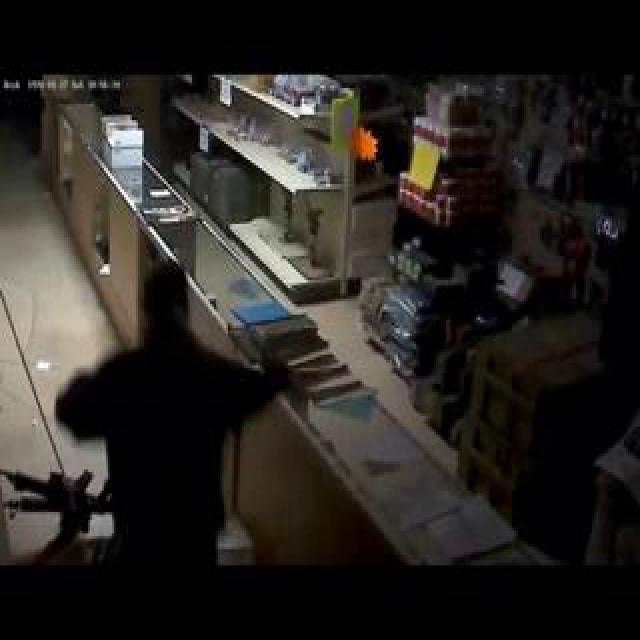burglary: (87, 83, 331, 598)
